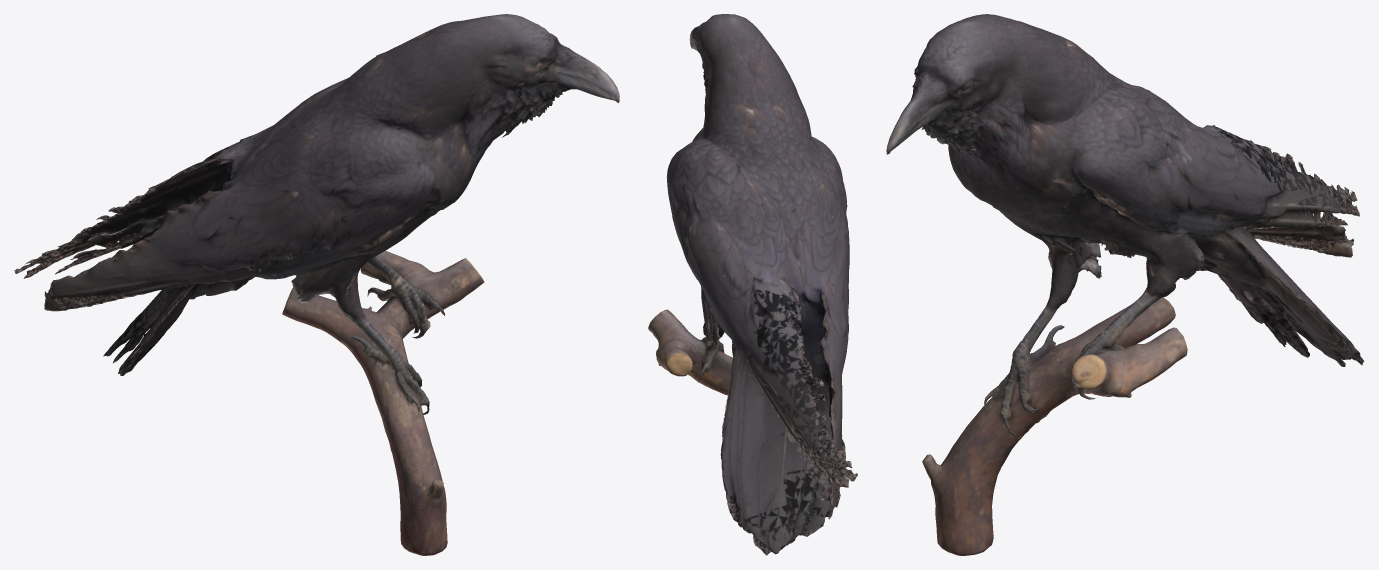
Rendered from raven.glb.
3 renders of one model, left to right at view 1: azimuth 30°, elevation 25°; view 2: azimuth 150°, elevation 25°; view 3: azimuth 270°, elevation 25°, orthographic. The views are drawn at different scales.
Parts seen in each view (by area): view 1: Object_2.001; view 2: Object_2.001; view 3: Object_2.001.
Part boxes in pixels (left/top/right/bottom): Object_2.001: left=14, top=14, right=619, bottom=555; Object_2.001: left=648, top=14, right=857, bottom=555; Object_2.001: left=886, top=14, right=1364, bottom=555.
Bounding box in the file's own units: 0.6077 × 0.7509 × 0.5746.
Materials: 1 (1 with a texture image).
